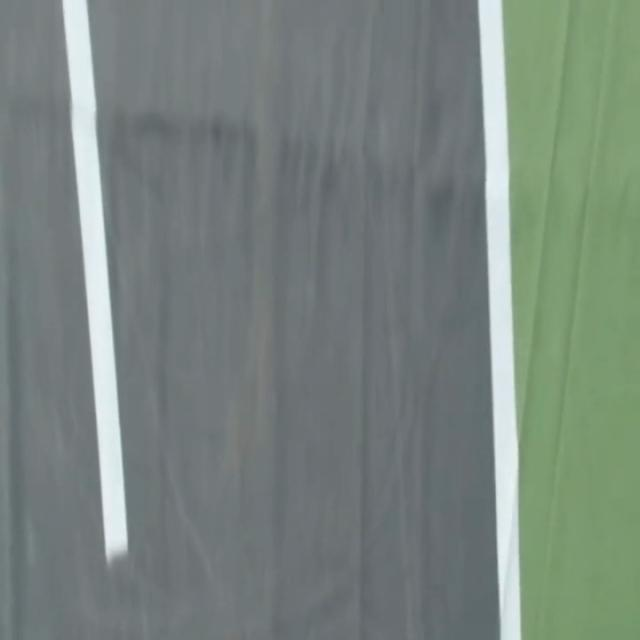center: (62, 0, 127, 559)
right: (478, 0, 521, 639)
